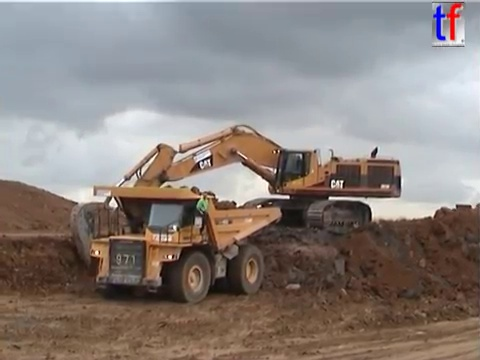excavator: (67, 121, 405, 271)
truck: (84, 183, 283, 305), (451, 202, 480, 222)
worker: (193, 190, 213, 237)
